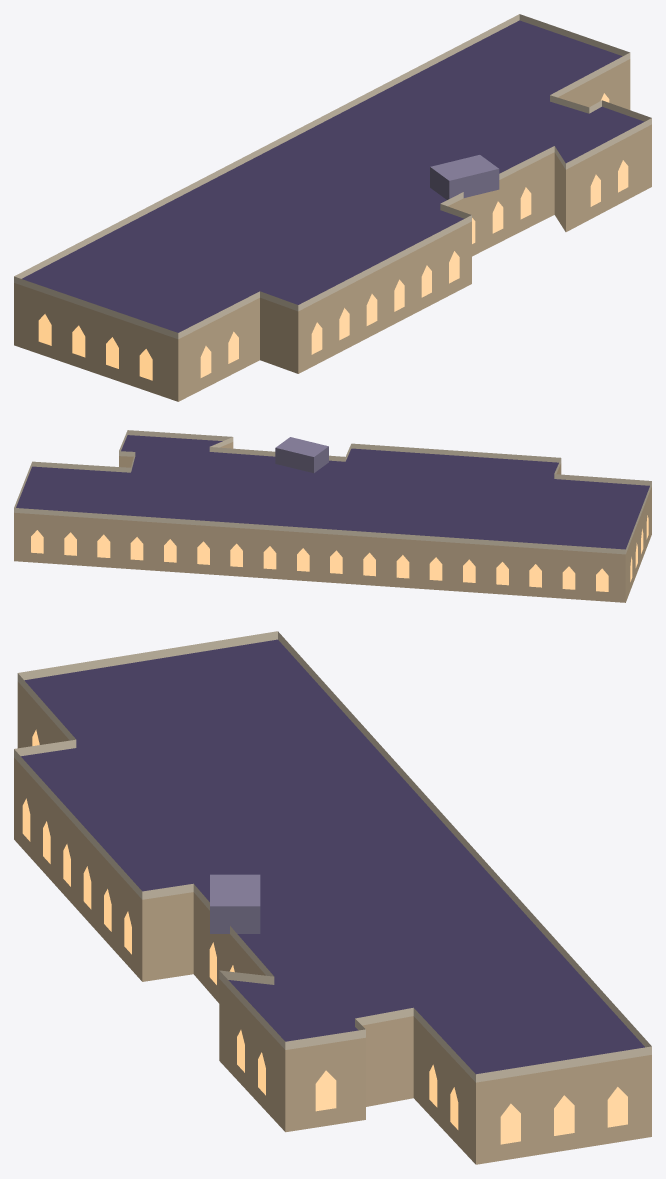
The model's file is b-012-advanced-facility-for-avian-research.glb.
3 renders of one model, top to bottom at view 1: azimuth 30°, elevation 25°; view 2: azimuth 150°, elevation 25°; view 3: azimuth 270°, elevation 25°, orthographic. The views are drawn at different scales.
Parts seen in each view (by area): view 1: campus/b-012-advanced-facility-for-avian-research-0; view 2: campus/b-012-advanced-facility-for-avian-research-0; view 3: campus/b-012-advanced-facility-for-avian-research-0.
Part boxes in pixels (x1,y1,x2,y2): campus/b-012-advanced-facility-for-avian-research-0: [14, 14, 651, 401]; campus/b-012-advanced-facility-for-avian-research-0: [14, 430, 651, 602]; campus/b-012-advanced-facility-for-avian-research-0: [14, 631, 651, 1164].
Bounding box in the file's own units: 62.44 × 7.2 × 37.99.
